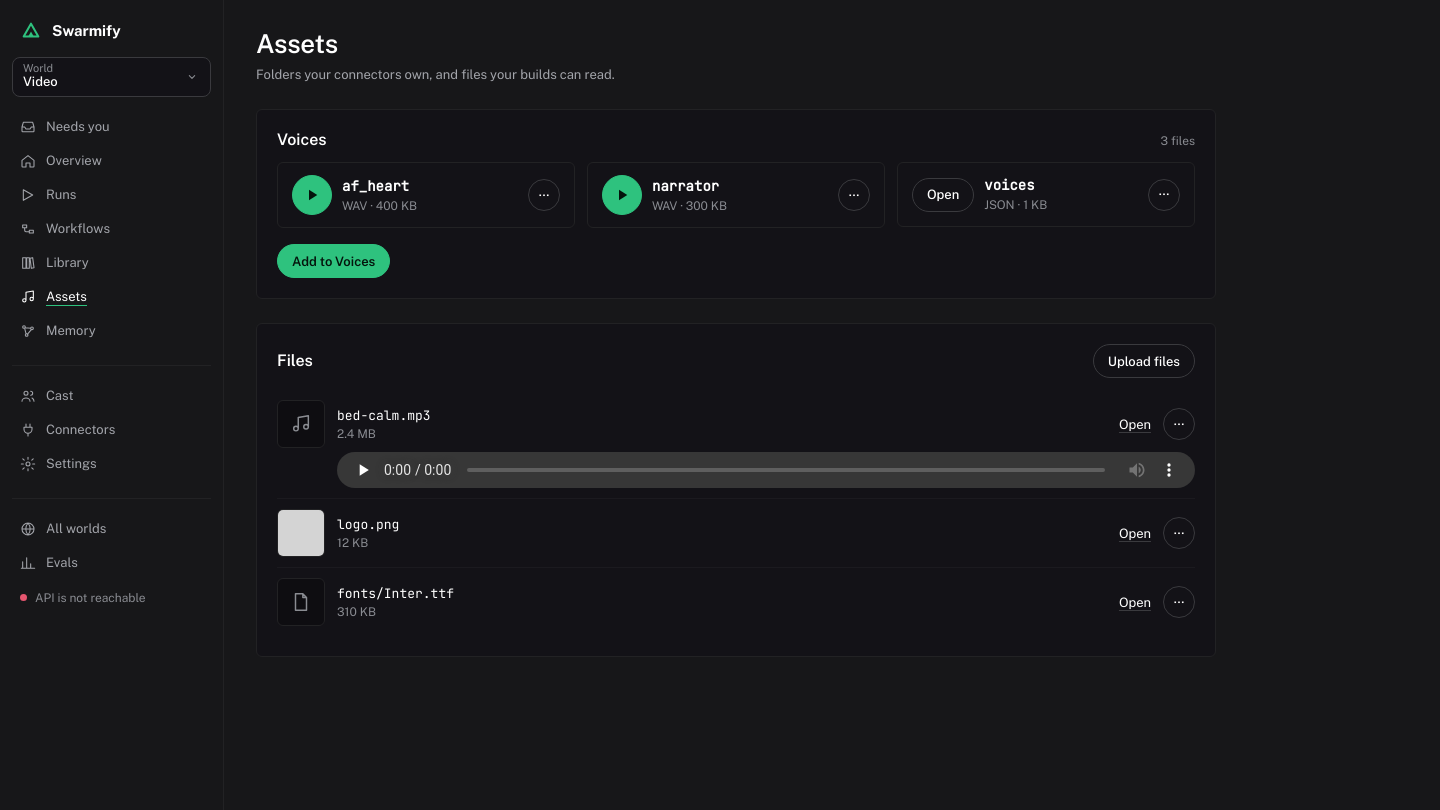
Scenario: Record uses the microphone through MediaRecorder and keeps the take
Click the button "Add to Voices" at coordinates (334, 262), box [277, 244, 390, 278]
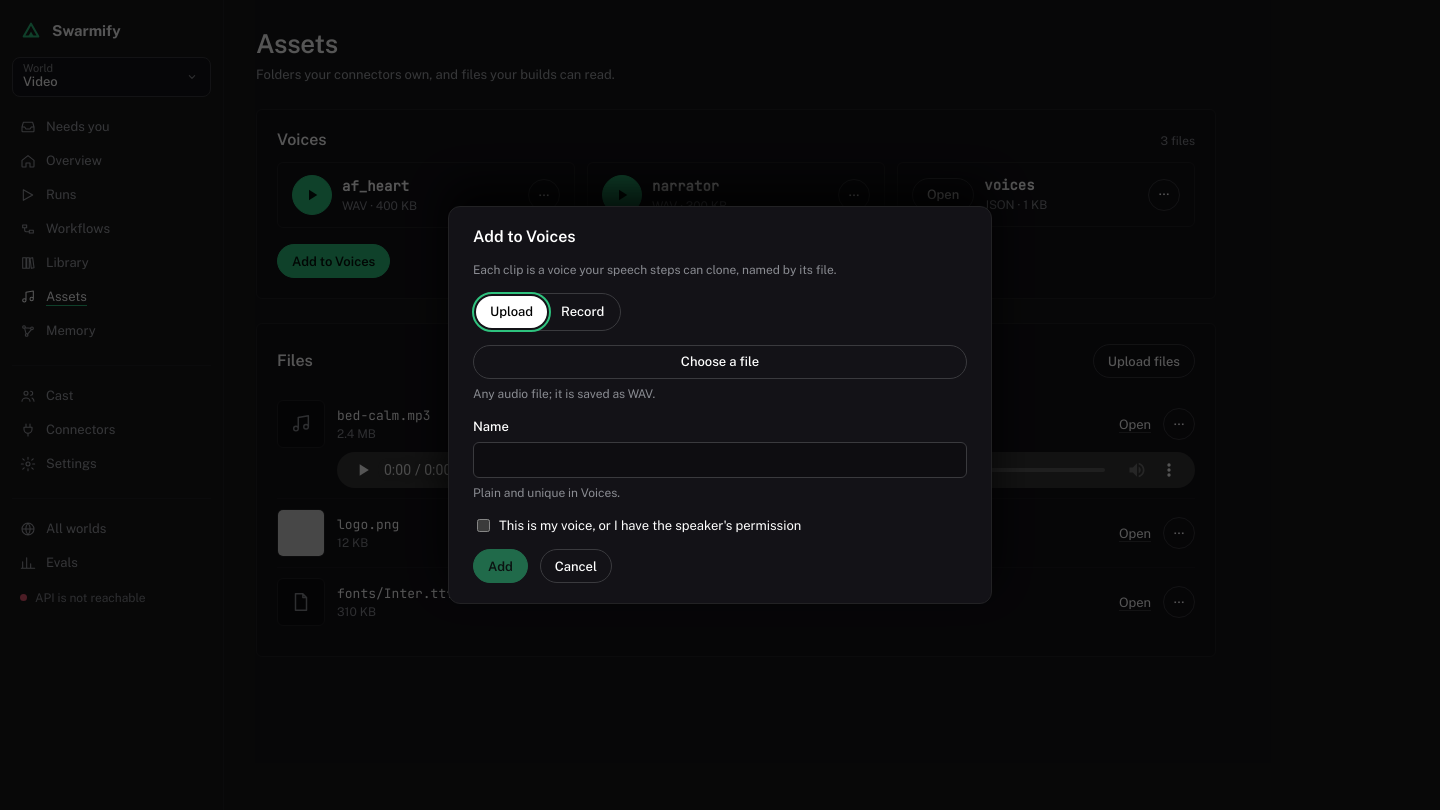
Click the button "Record" at coordinates (583, 312), box [547, 296, 618, 328]
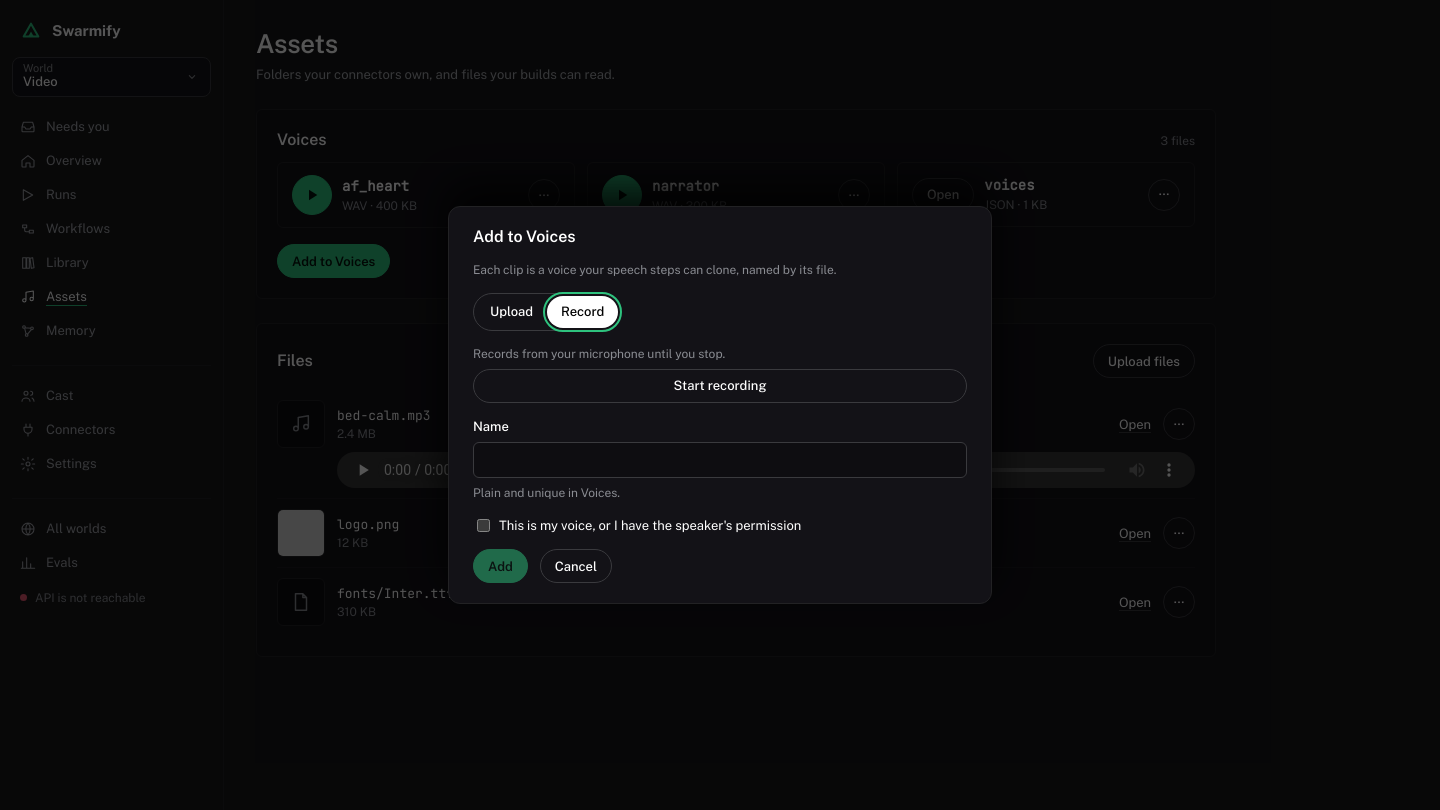
Click the button "Start recording" at coordinates (720, 386), box [473, 369, 967, 403]
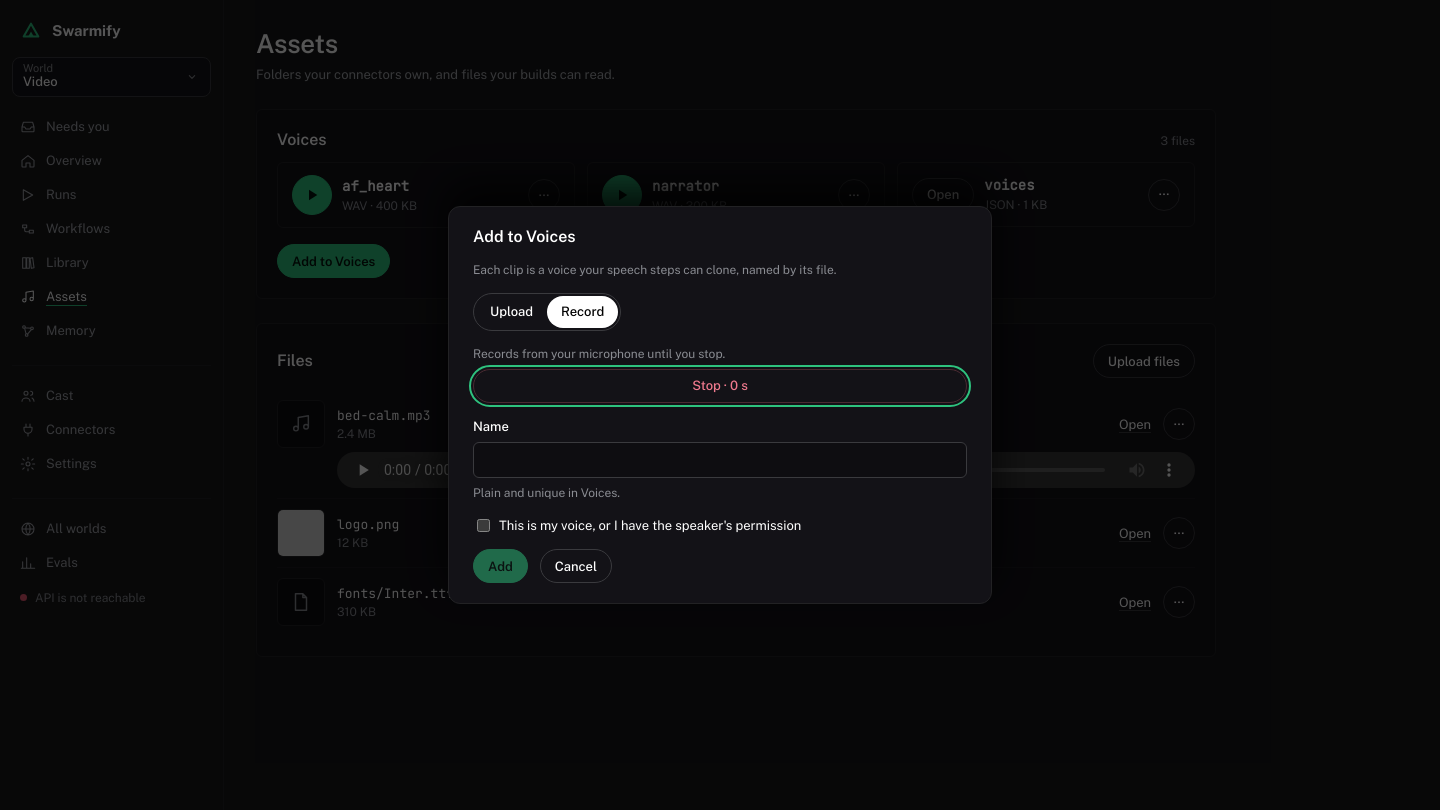
Click the button "Stop · 0 s" at coordinates (720, 386), box [473, 369, 967, 403]
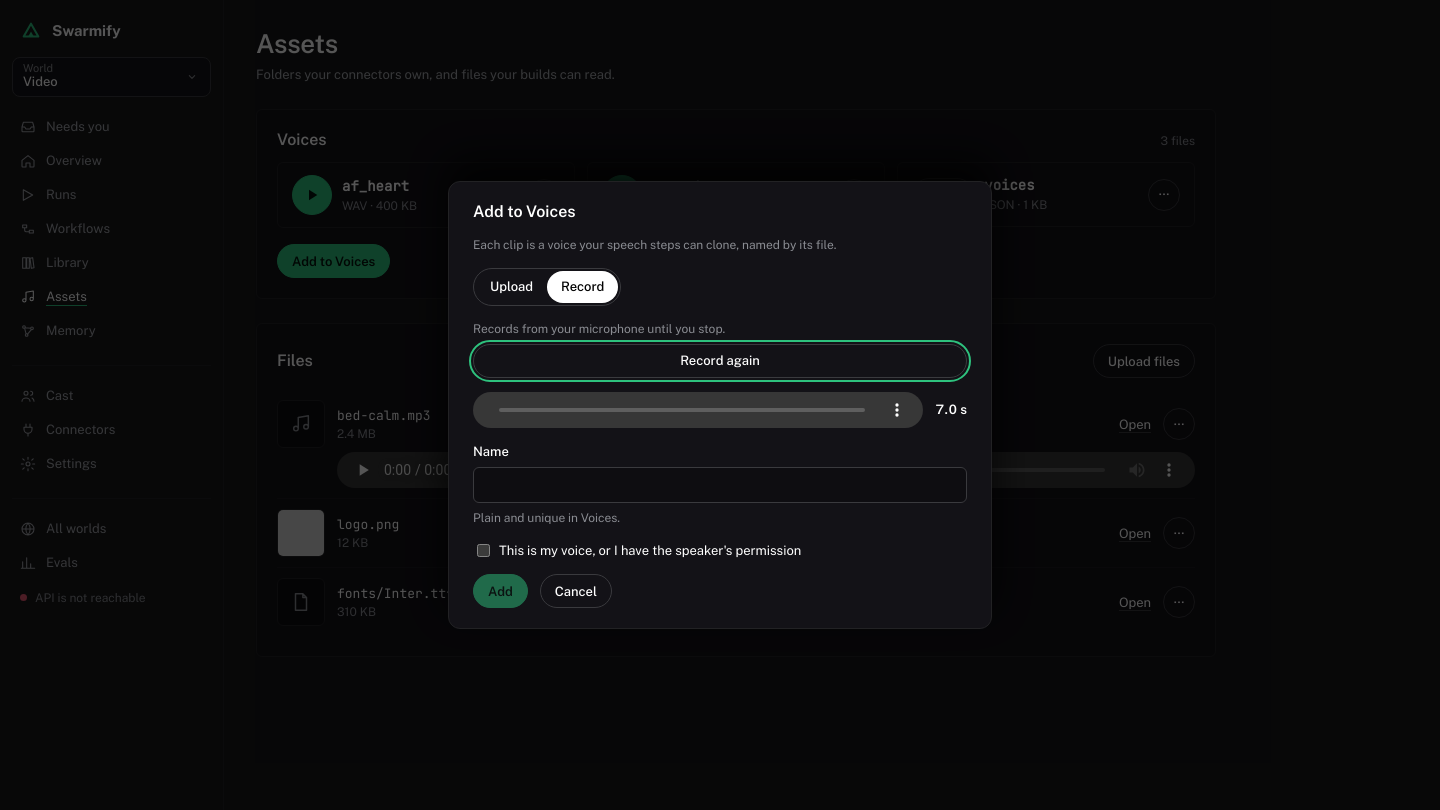
Result: the button "Record again" is shown at [473, 344, 967, 378]
